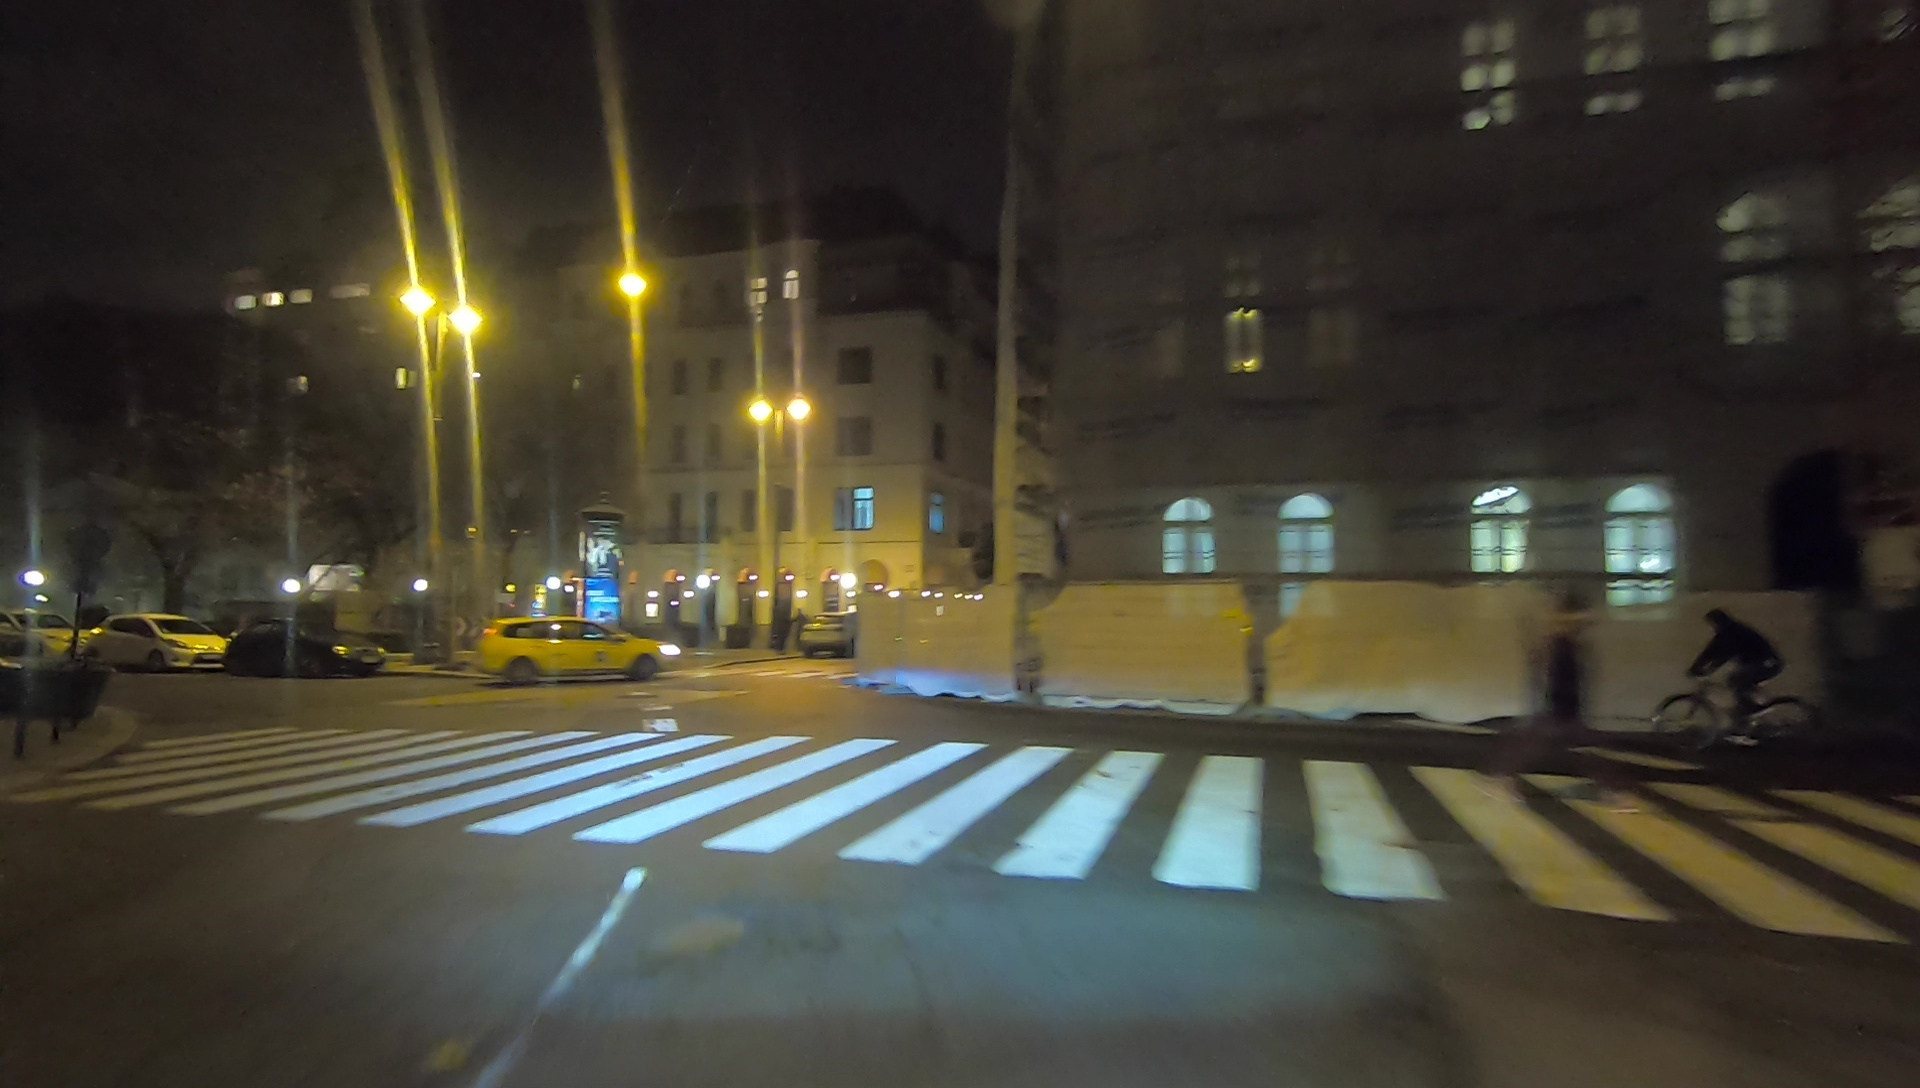person: (1539, 621, 1597, 765)
